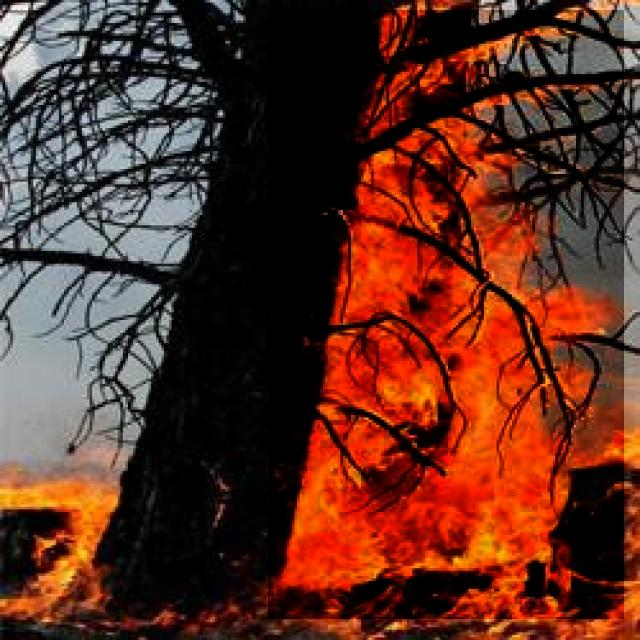Fire: (268, 10, 624, 619), (0, 461, 141, 619)
